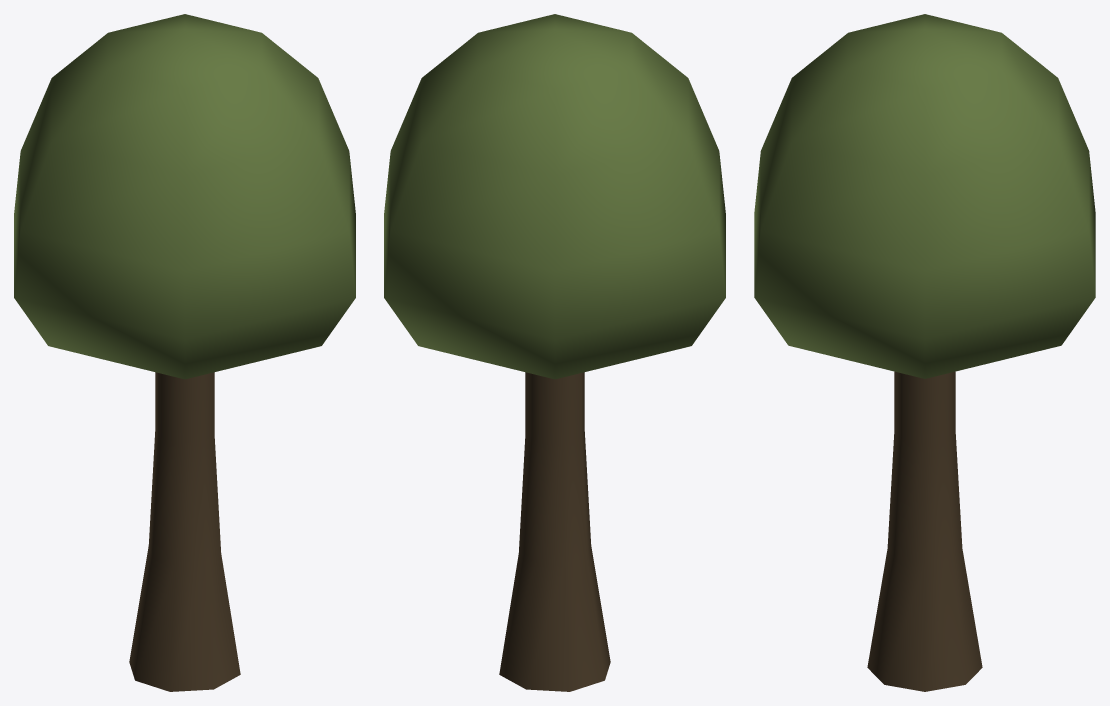
File: PS_Tree03.fbx
3 views of the same model, side by side, from view 1: azimuth 30°, elevation 25°; view 2: azimuth 150°, elevation 25°; view 3: azimuth 270°, elevation 25° (orthographic).
Visible parts, largest first — view 1: PS_Tree03; view 2: PS_Tree03; view 3: PS_Tree03.
Boxes of the visible parts, bbox=[...] form: PS_Tree03: bbox=[14, 14, 355, 691]; PS_Tree03: bbox=[384, 14, 725, 691]; PS_Tree03: bbox=[754, 14, 1095, 691].
Bounding box in the file's own units: 3 × 5.35 × 2.6.
